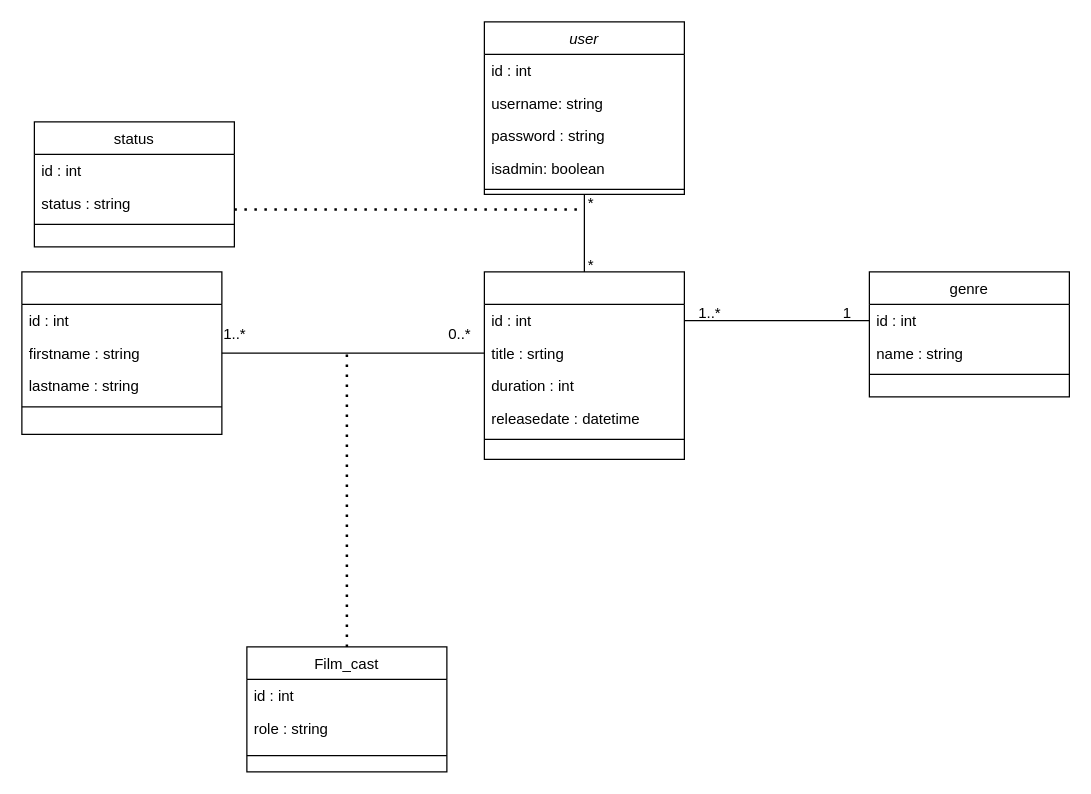
This 1091x794 diagram has some shape labels left out. Each missing label, with the box of its shape:
Cast: (21, 271, 222, 434)
Film: (483, 271, 684, 459)
